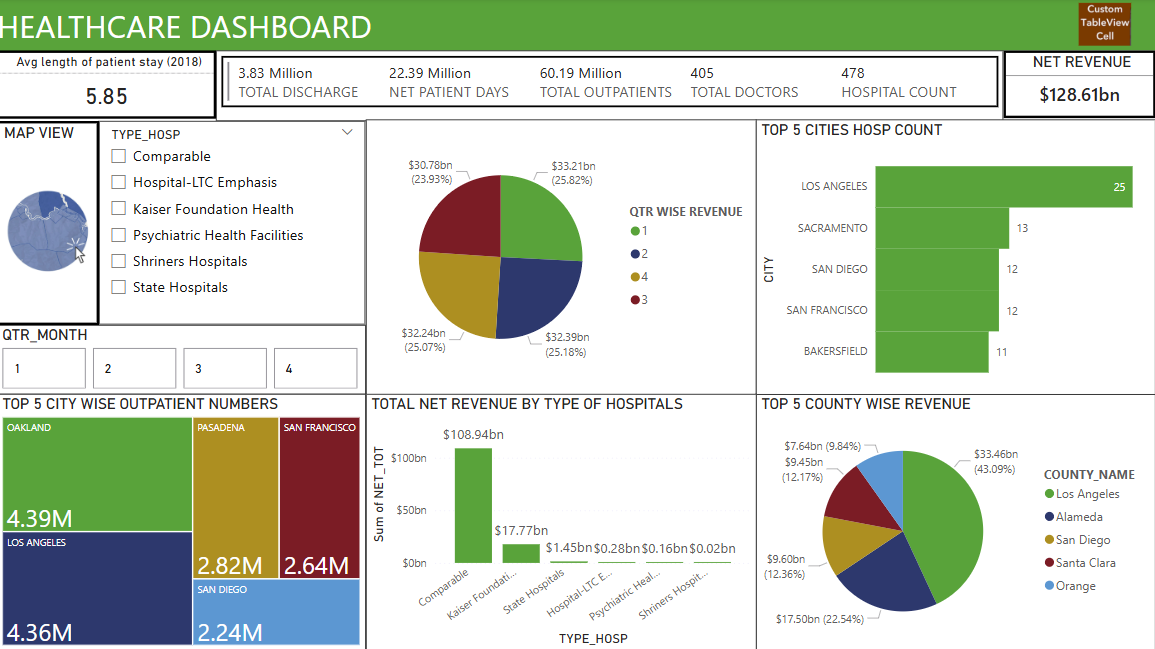

What the dashboard file says about the page in this screenshot:
{"tool":"powerbi","page":{"name":"DASHBOARD- SQL SERVER","canvas":[1280,720],"ordinal":0},"visuals":[{"type":"shape","box":[0,0,1280,58],"z":0},{"type":"multiRowCard","fields":{"Values":["Sum(hospital (2).NET_TOT)","Sum(hospital (2).DIS_TOT)","Sum(hospital (2).DAY_TOT)","Sum(hospital (2).VIS_TOT)","hospital (2).Doctors","hospital (2).FAC_NO"]},"box":[242.1,58.4,1037.2,75.1],"z":1000},{"type":"card","title":"Avg length of patient stay","fields":{"Values":["Sum(Query1.Overall_Average_Length_of_Stay)"]},"box":[0,58.4,242.1,75.1],"z":2000},{"type":"pieChart","title":" NET_TOT by QTR_MONTH","fields":{"Y":["Sum(hospital (2).NET_TOT)"],"Category":["hospital (2).QTR_MONTH"]},"box":[407.1,133.7,431.4,303.8],"z":3000},{"type":"pieChart","title":"TOP 4 COUNTY WISE REVENUE","fields":{"Category":["hospital (2).COUNTY_NAME"],"Y":["Sum(hospital (2).NET_TOT)"]},"box":[838.5,437.5,441.5,283.5],"z":4000},{"type":"clusteredBarChart","title":"TOP 5 CITIES HOSP COUNT","fields":{"Category":["hospital (2).CITY"],"Y":["Count(hospital (2).FAC_NAME)"]},"box":[838.5,133.7,441.5,303.8],"z":5000},{"type":"clusteredColumnChart","fields":{"Y":["Sum(hospital (2).NET_TOT)"],"Category":["hospital (2).TYPE_HOSP"]},"box":[407.1,437.5,431.4,283.5],"z":6000},{"type":"advancedSlicerVisual","fields":{"Values":["hospital (2).QTR_MONTH"]},"box":[0,336.2,407.1,101.3],"z":7000},{"type":"slicer","fields":{"Values":["hospital (2).TYPE_HOSP"]},"box":[0,131.6,407.1,204.6],"z":8000},{"type":"donutChart","fields":{"Y":["Sum(hospital (2).STF_BEDS)","Sum(hospital (2).AVL_BEDS)","Sum(hospital (2).LIC_BEDS)"]},"box":[0,437.5,407.1,283.5],"z":9000}]}

Visuals, with their boxes in screenshot pixels (x1, y1, x2, y2), scaled from the page's 1280x720 canvas onto the 1155x649 screenshot:
shape: crop(0, 0, 1154, 52)
multiRowCard - Sum(hospital (2).NET_TOT) x Sum(hospital (2).DIS_TOT): crop(218, 53, 1154, 120)
"Avg length of patient stay" card: crop(0, 53, 218, 120)
" NET_TOT by QTR_MONTH" pieChart: crop(367, 121, 757, 394)
"TOP 4 COUNTY WISE REVENUE" pieChart: crop(757, 394, 1154, 648)
"TOP 5 CITIES HOSP COUNT" clusteredBarChart: crop(757, 121, 1154, 394)
clusteredColumnChart - Sum(hospital (2).NET_TOT) x hospital (2).TYPE_HOSP: crop(367, 394, 757, 648)
advancedSlicerVisual - hospital (2).QTR_MONTH: crop(0, 303, 367, 394)
slicer - hospital (2).TYPE_HOSP: crop(0, 119, 367, 303)
donutChart - Sum(hospital (2).STF_BEDS) x Sum(hospital (2).AVL_BEDS): crop(0, 394, 367, 648)
